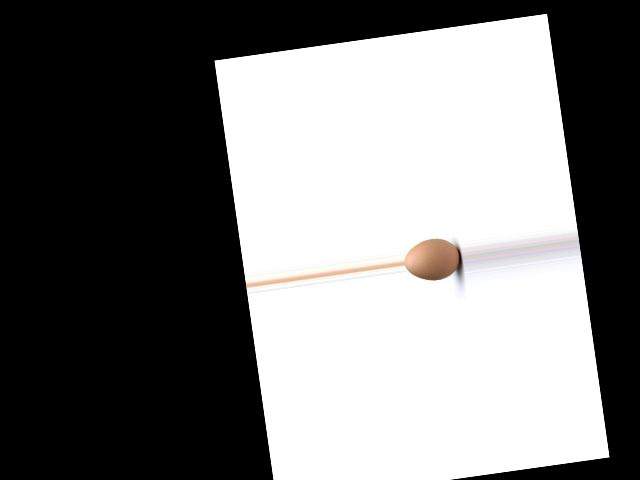egg: (402, 235, 462, 283)
